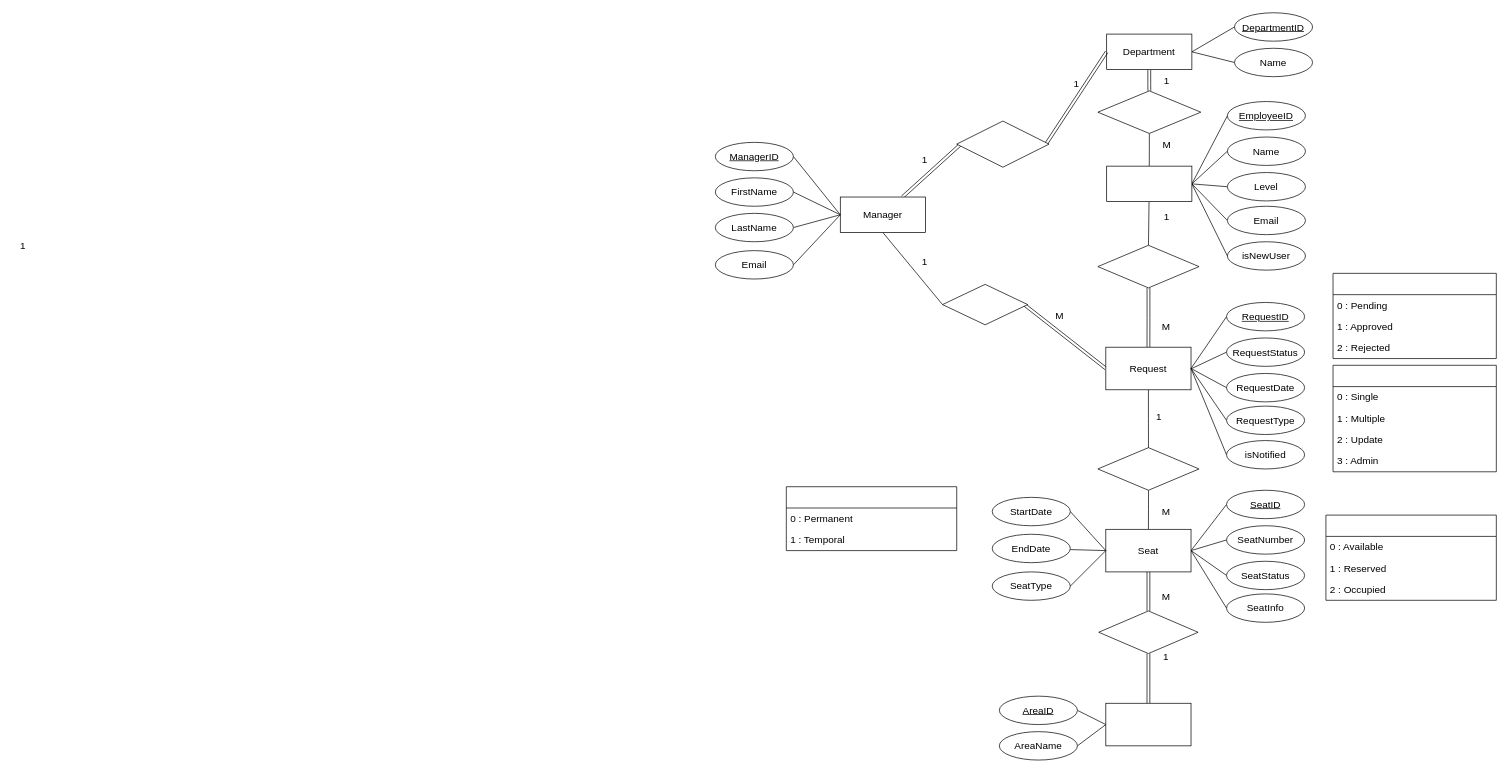
The diagram is 1509 pixels wide and 772 high, and some of its shapes have lost their labels. The box of each missing label's shape, as (x1, y1, x2, y2) in pixels:
Apply for: (1097, 245, 1199, 288)
Approve: (942, 284, 1028, 325)
Area: (1105, 703, 1191, 746)
Employee: (1106, 165, 1192, 202)
Has: (1097, 90, 1201, 133)
Located at: (1098, 610, 1198, 654)
Managed by: (956, 120, 1049, 167)
Refers to: (1097, 447, 1199, 490)
RequestStatus (int): (1332, 273, 1496, 359)
RequestType (int): (1332, 365, 1496, 472)
SeatStatus (int): (1325, 514, 1496, 600)
SeatType (int): (786, 486, 957, 551)
